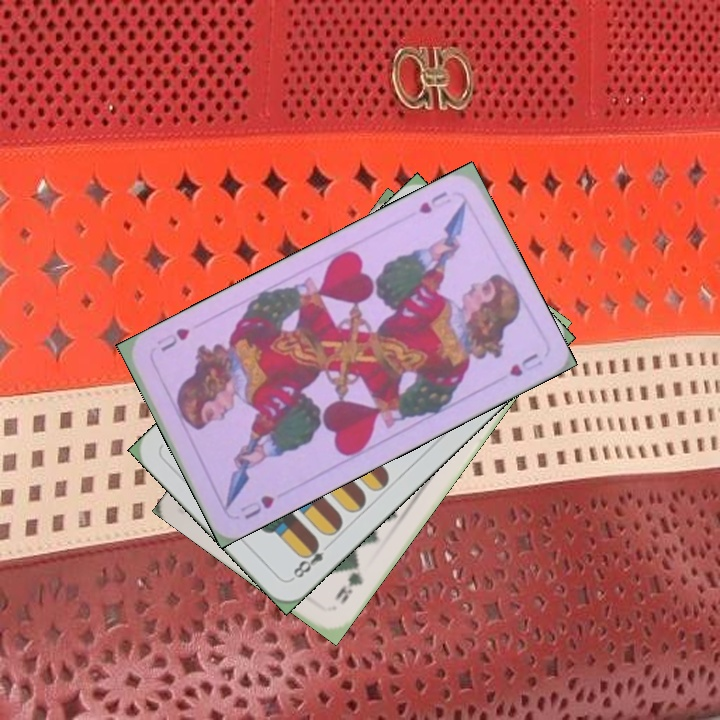E8: (287, 537, 334, 583)
G9: (330, 558, 366, 607)
HU: (236, 490, 277, 522), (414, 187, 454, 217)
